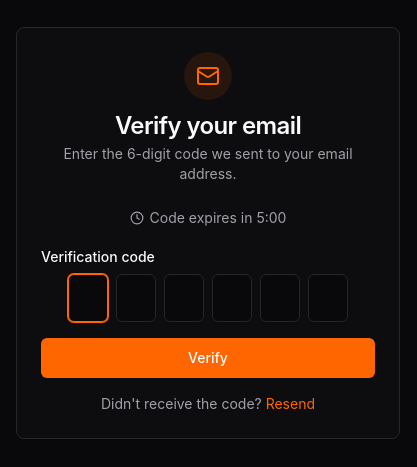
Test: VerifyEmailPage — form validation › shows error for partial code (less than 6 digits)
Note: Type only 3 digits
Type "1" into the field named "Digit 1".
click(88, 298); type("1")  # box [68,274,108,322]
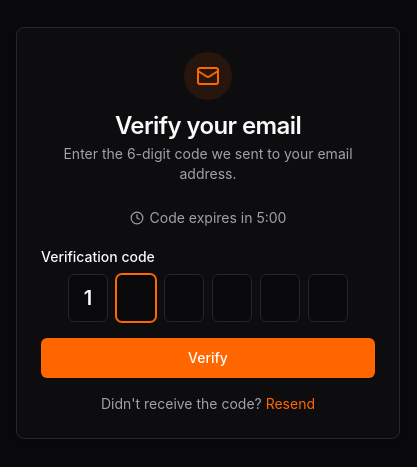
Type "2" into the field named "Digit 2".
click(136, 298); type("2")  # box [116,274,156,322]
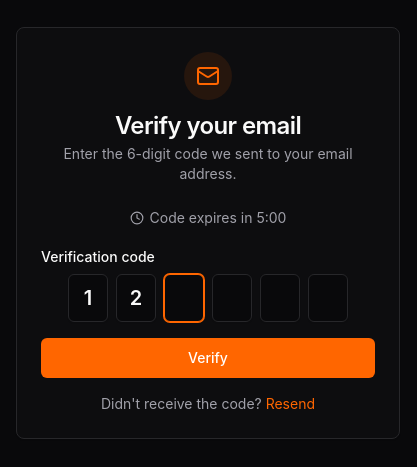
Type "3" into the field named "Digit 3".
click(184, 298); type("3")  # box [164,274,204,322]
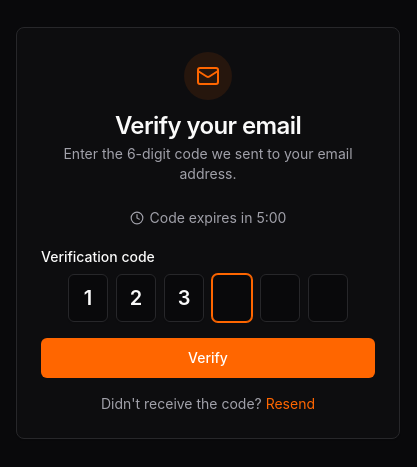
Click the button "Verify".
click(208, 358)  # box [41,338,375,378]
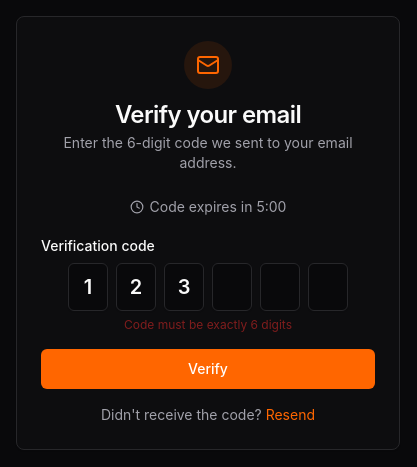
Expected: the text "Code must be exactly 6 digits" is shown, [124,317,292,332]
